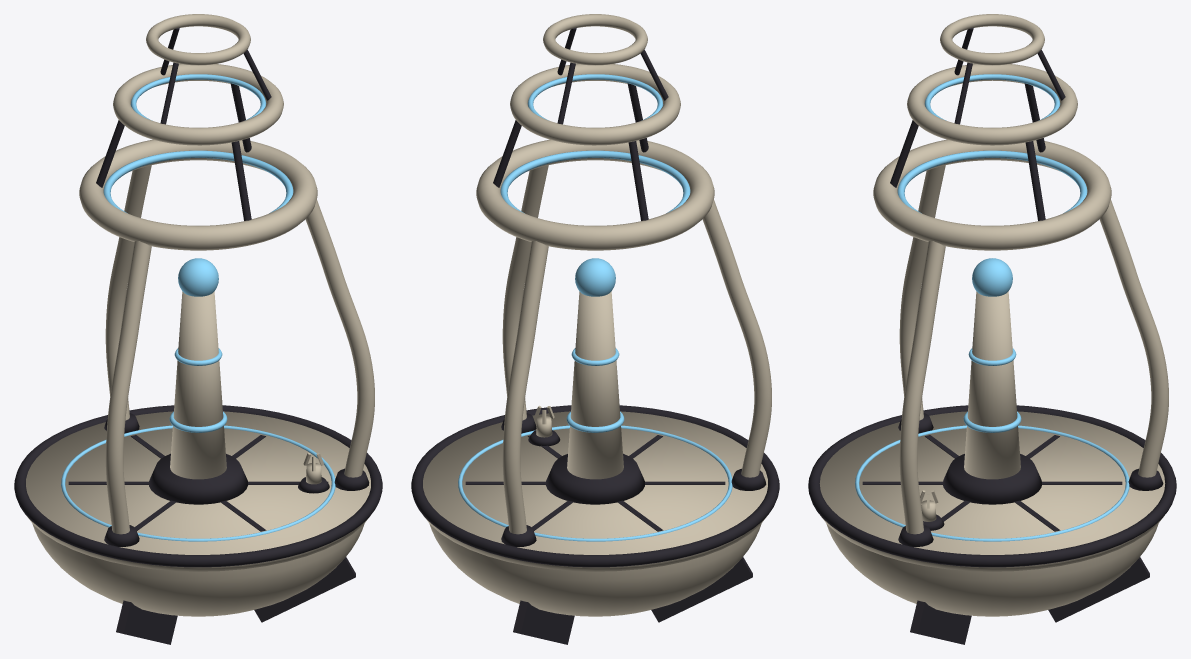
Rendered from fokuskanone.obj.
3 renders of one model, left to right at view 1: azimuth 30°, elevation 25°; view 2: azimuth 150°, elevation 25°; view 3: azimuth 270°, elevation 25°, orthographic.
Visible parts, largest first — view 1: Fokuskanone; view 2: Fokuskanone; view 3: Fokuskanone.
Boxes of the visible parts, x1,y1,x2,y2 form: Fokuskanone: (14,14,382,644); Fokuskanone: (411,14,779,644); Fokuskanone: (808,14,1176,644).
Size of the model in its own units: 20.7 by 36.34 by 20.7.
